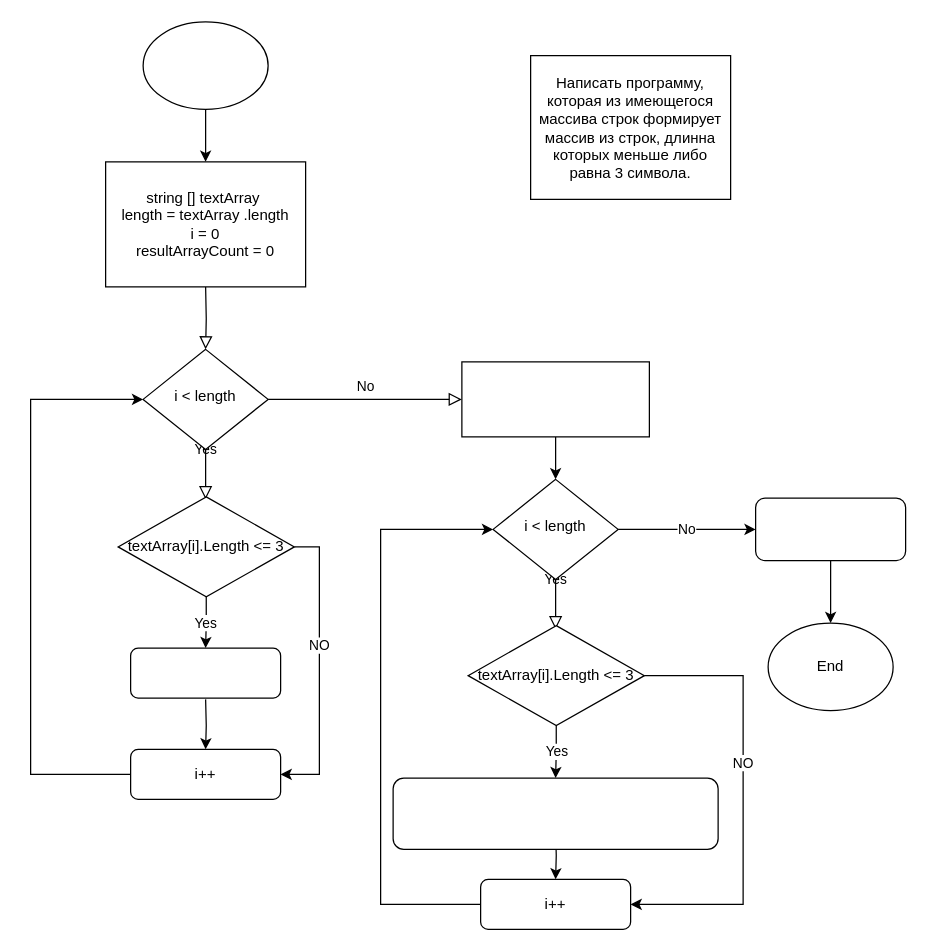
Image size: 928x951. Some labels were removed from this diagram. Here are the shapes that lost their labels. From the top down, the centre of each, then its label:
At [205,65]: "Start".
At [555,399]: "i = 0 string[] resultArray = new string[resultArrayCount] resultArrayCount = 0".
At [830,529]: "print(resultArray )".
At [205,672]: "resultArrayCount++".
At [555,813]: "resultArray[resultArrayCount] = textArray[i] resultArrayCount++".
